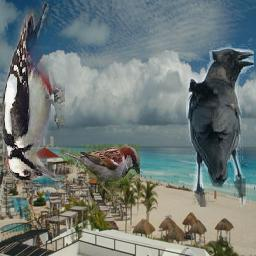Crow: (186, 43, 254, 208)
Sparrow: (60, 145, 141, 202)
Woodpecker: (1, 4, 66, 180)
